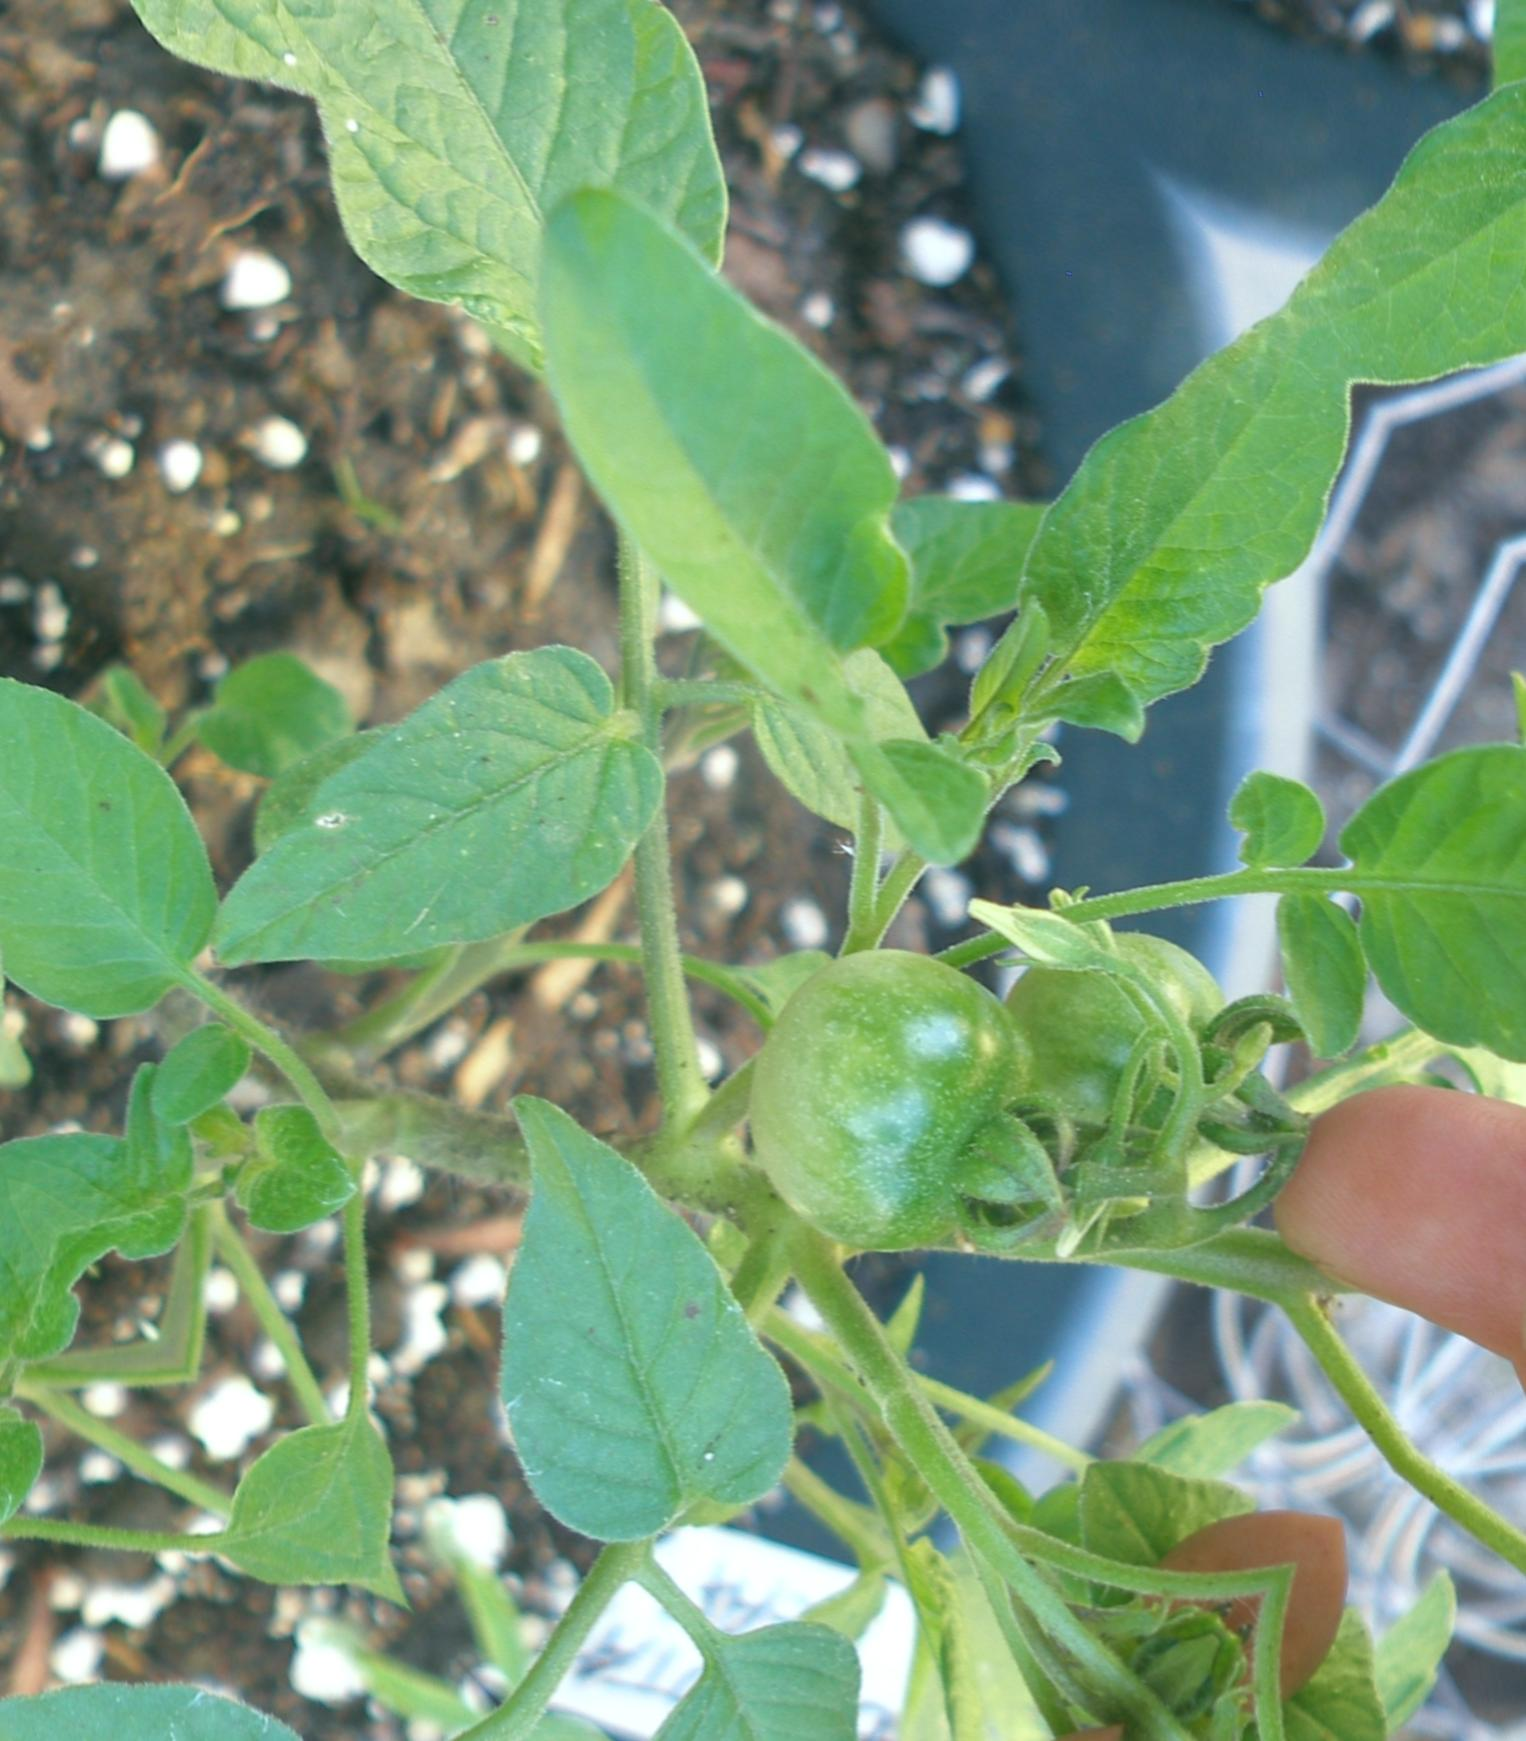Tomato leaf: (117, 494, 774, 1143), (173, 0, 923, 556), (398, 105, 1007, 729), (324, 1055, 917, 1649), (952, 232, 1491, 774), (1181, 549, 1526, 1258), (0, 508, 329, 1120), (0, 974, 314, 1328)
